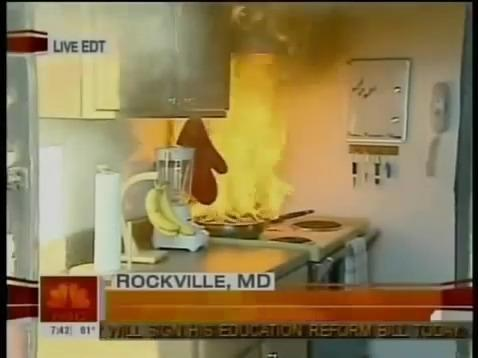fire: (205, 115, 291, 222)
